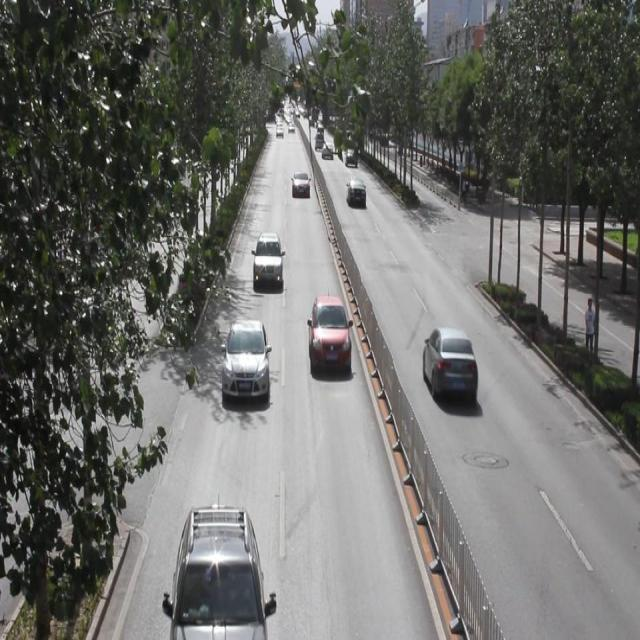car: (171, 506, 266, 640), (422, 326, 478, 399), (222, 320, 270, 402), (306, 296, 351, 378), (253, 232, 283, 290), (346, 179, 367, 207), (290, 170, 310, 197), (320, 140, 334, 160), (344, 147, 357, 165)
truck: (314, 131, 324, 150)
